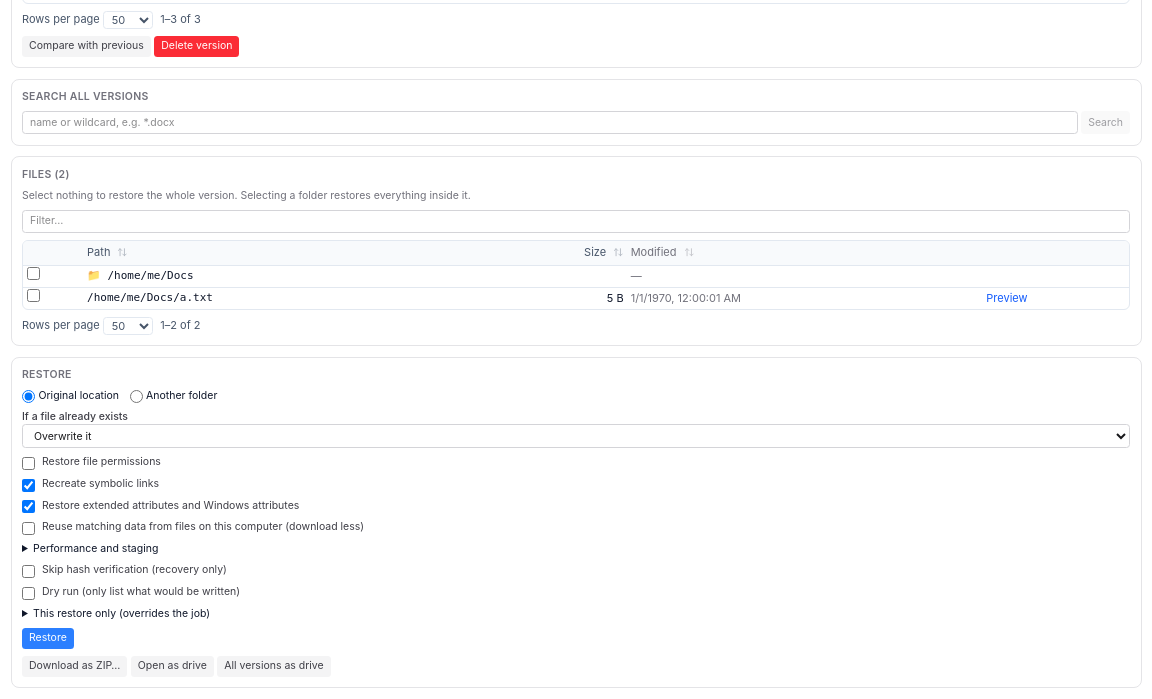
it: restore view › opens a version as a drive and unmounts it
(page scrolled)
Expected: the element with test id "backup-file-list" shows "a.txt", [87, 291, 213, 304]
Click the button with test id "backup-open-drive" at (172, 666), box [131, 656, 214, 676]
(page scrolled)
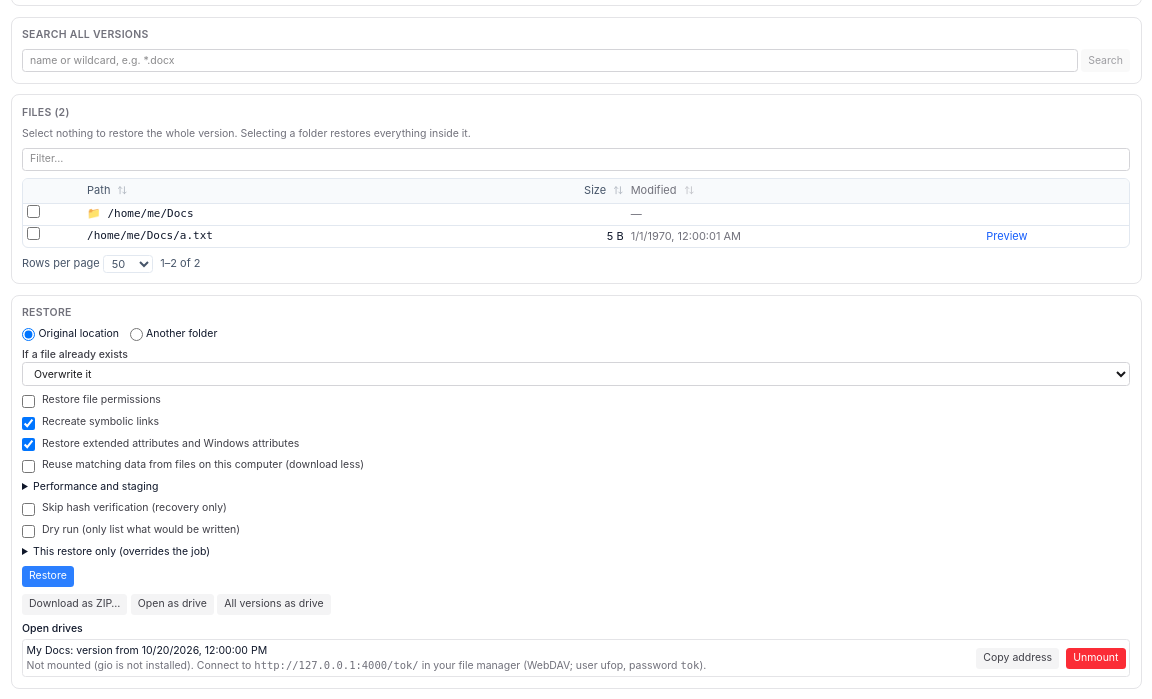
Result: the element with test id "backup-open-drives" shows "http://127.0.0.1:4000/tok/" at [254, 658, 419, 670]
Result: the element with test id "backup-open-drives" shows "gio is not installed" at [91, 658, 191, 672]
Click the button with test id "backup-unmount-d1" at (1096, 658), box [1066, 648, 1126, 668]
(page scrolled)
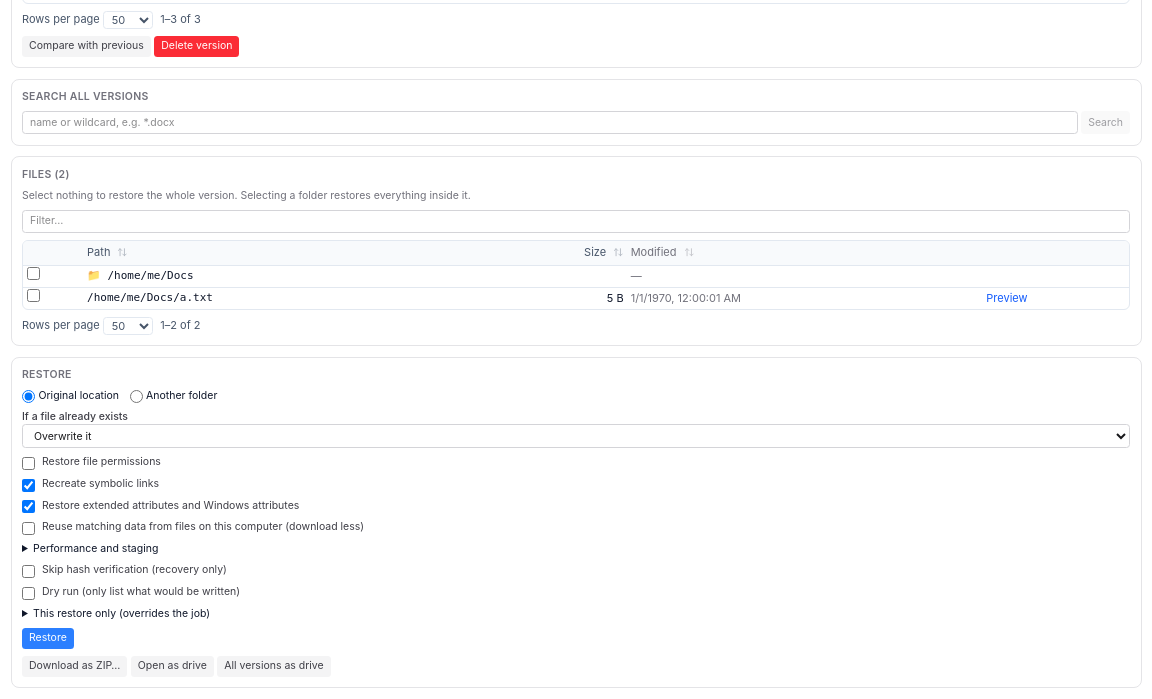
Result: the element with test id "backup-open-drives" is gone
